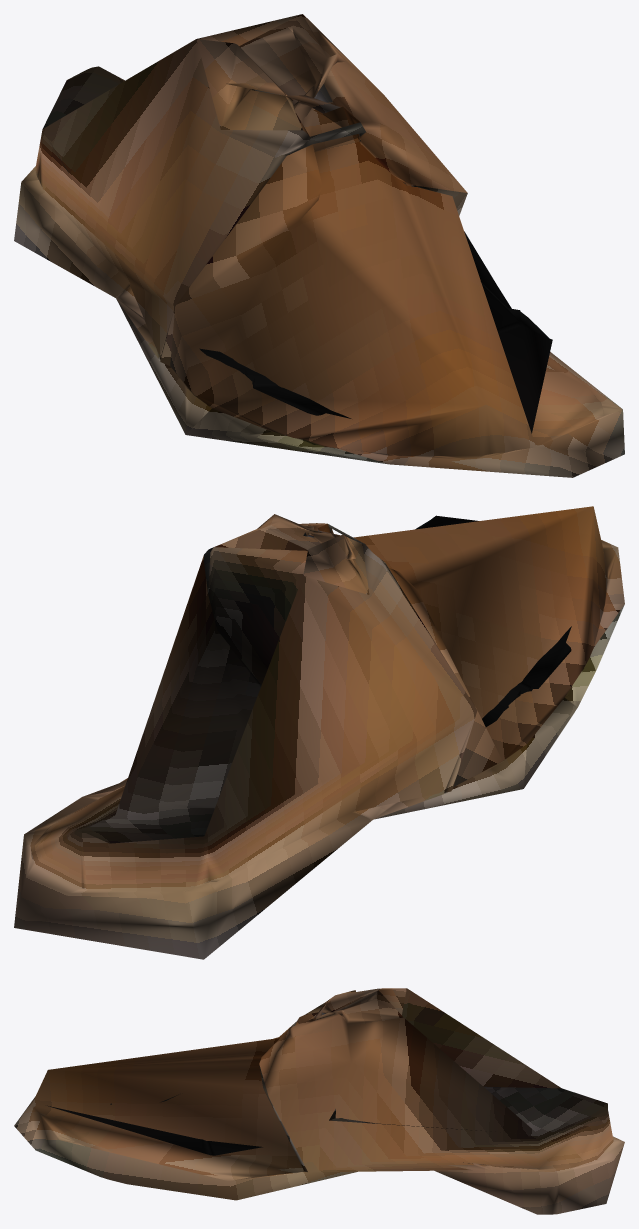
File: Timberland_Mens_Earthkeepers_Stormbuck_Lite_Plain_Toe_Oxford-low.glb
3 views of the same model, one above another, from view 1: azimuth 30°, elevation 25°; view 2: azimuth 150°, elevation 25°; view 3: azimuth 270°, elevation 25° (orthographic). The views are drawn at different scales.
Parts seen in each view (by area): view 1: Timberland_Mens_Earthkeepers_Stormbuck_Lite_Plain_Toe_Oxford; view 2: Timberland_Mens_Earthkeepers_Stormbuck_Lite_Plain_Toe_Oxford; view 3: Timberland_Mens_Earthkeepers_Stormbuck_Lite_Plain_Toe_Oxford.
Part boxes in pixels (x1=…): Timberland_Mens_Earthkeepers_Stormbuck_Lite_Plain_Toe_Oxford: x1=14, y1=14, x2=624, y2=477; Timberland_Mens_Earthkeepers_Stormbuck_Lite_Plain_Toe_Oxford: x1=14, y1=506, x2=624, y2=959; Timberland_Mens_Earthkeepers_Stormbuck_Lite_Plain_Toe_Oxford: x1=14, y1=988, x2=624, y2=1214.
Bounding box in the file's own units: 0.1089 × 0.1049 × 0.3111.
Materials: 1 (1 with a texture image).
